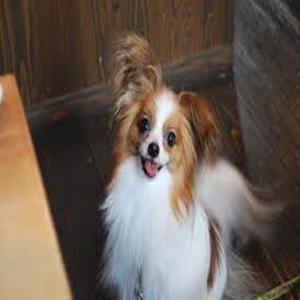yell: (100, 29, 278, 299)
